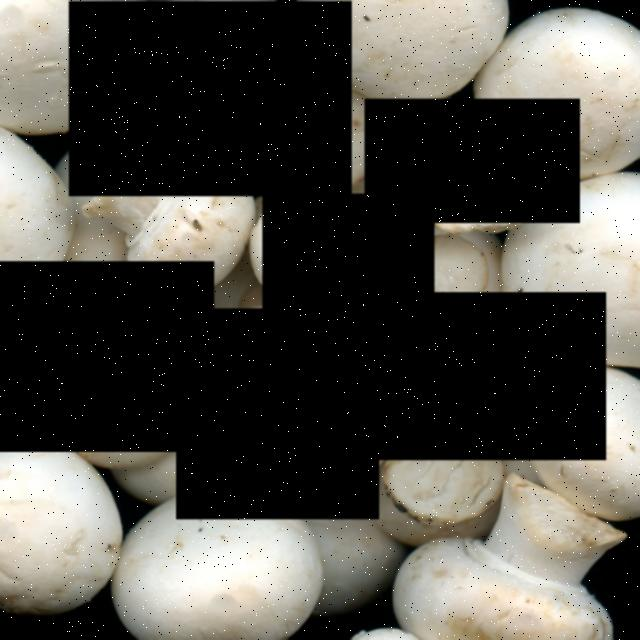Mushroom: (69, 2, 352, 196), (176, 308, 380, 520), (0, 261, 214, 452), (372, 292, 606, 460), (262, 194, 434, 357), (365, 99, 580, 223)
